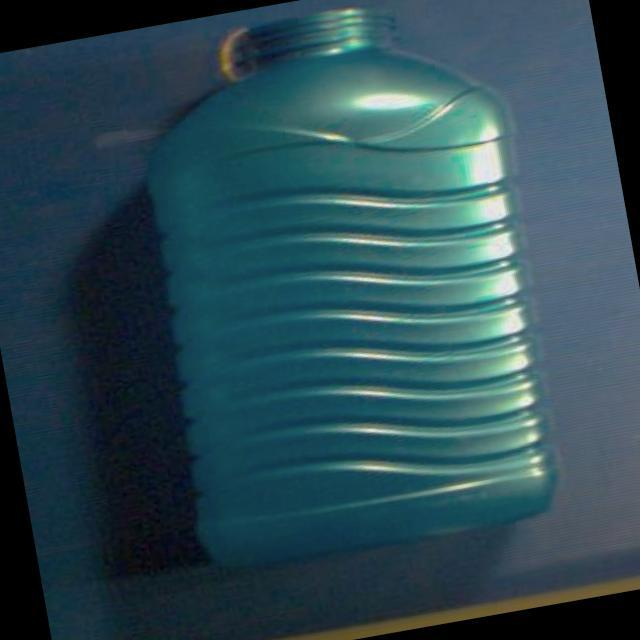HDPE Plastic: (144, 7, 564, 569)
